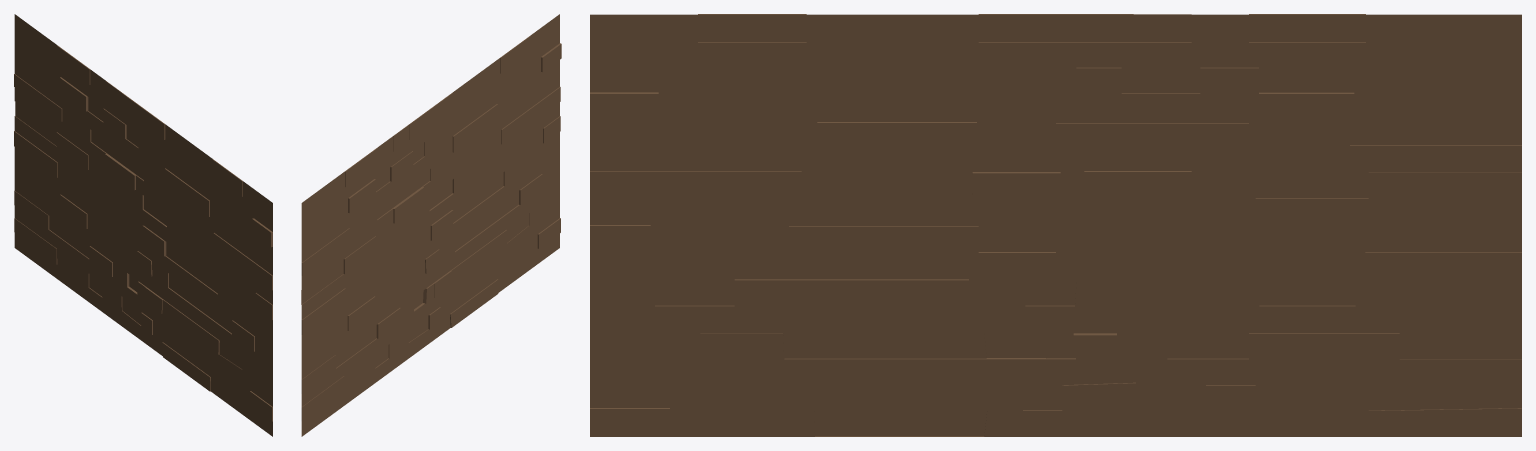
Rendered from Corridor_Wall.fbx.
3 renders of one model, left to right at view 1: azimuth 30°, elevation 25°; view 2: azimuth 150°, elevation 25°; view 3: azimuth 270°, elevation 25°, orthographic. The views are drawn at different scales.
Parts seen in each view (by area): view 1: Corridor_Wall; view 2: Corridor_Wall; view 3: Corridor_Wall.
Boxes of the visible parts, x1,y1,x2,y2 form: Corridor_Wall: [14, 14, 272, 436]; Corridor_Wall: [301, 14, 561, 436]; Corridor_Wall: [590, 14, 1521, 436].
Size of the model in its own units: 4.57 by 248 by 497.
